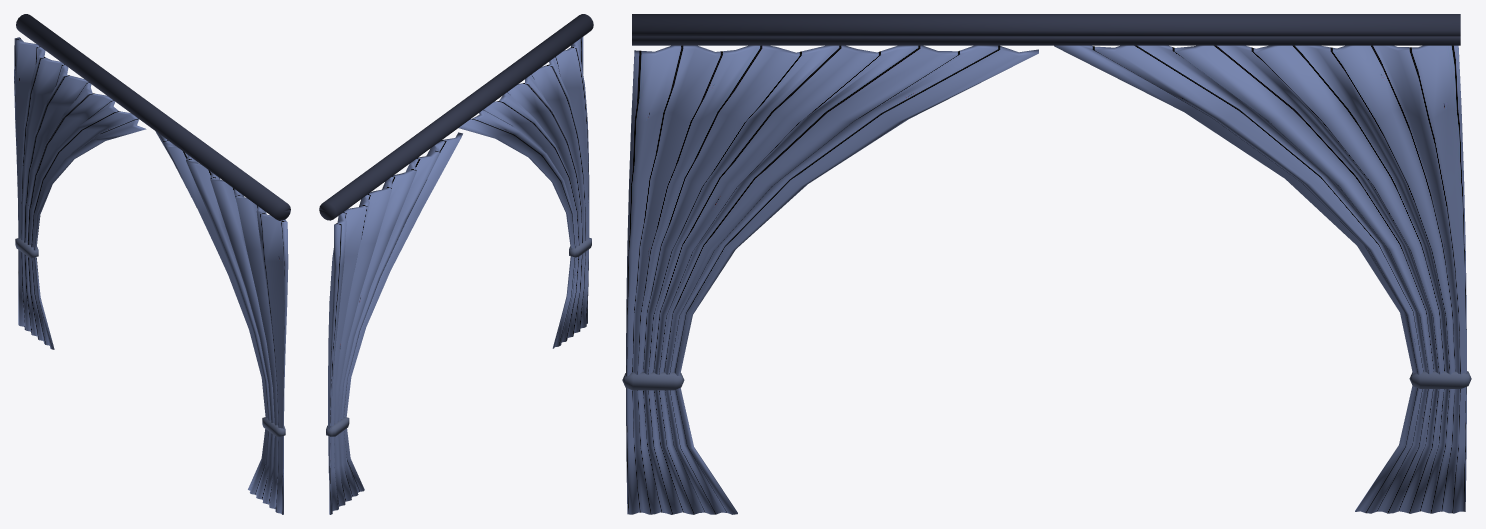
File: Cortinas.obj
The picture shows the model from 3 angles, left to right: view 1: azimuth 30°, elevation 25°; view 2: azimuth 150°, elevation 25°; view 3: azimuth 270°, elevation 25°; orthographic projection. The views are drawn at different scales.
Parts seen in each view (by area): view 1: Plane003, Plane004, Cylinder001; view 2: Plane004, Plane003, Cylinder001; view 3: Plane003, Plane004, Cylinder001, Capsule002, Capsule001.
Boxes of the visible parts, x1,y1,x2,y2 form: Plane003: (155,131,288,514); Plane004: (14,37,146,349); Cylinder001: (16,14,290,220); Plane004: (328,132,462,514); Plane003: (459,37,589,348); Cylinder001: (319,14,593,220); Plane003: (626,45,1038,514); Plane004: (1054,45,1466,513); Cylinder001: (632,14,1460,45); Capsule002: (622,372,684,390); Capsule001: (1409,371,1471,388).
Bounding box in the file's own units: 4.39 × 54.94 × 84.79.
3 materials, 3 textured.
